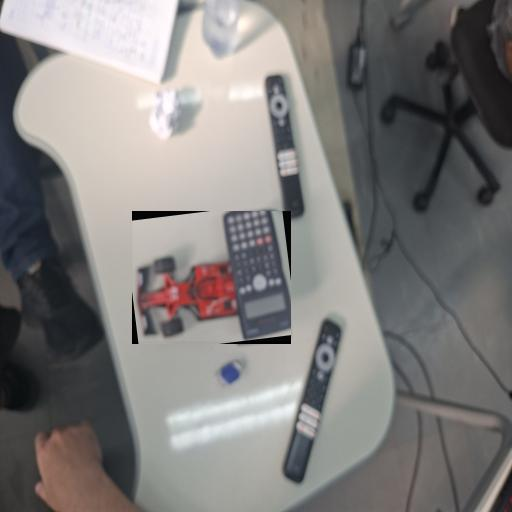carro: (133, 211, 291, 341)
